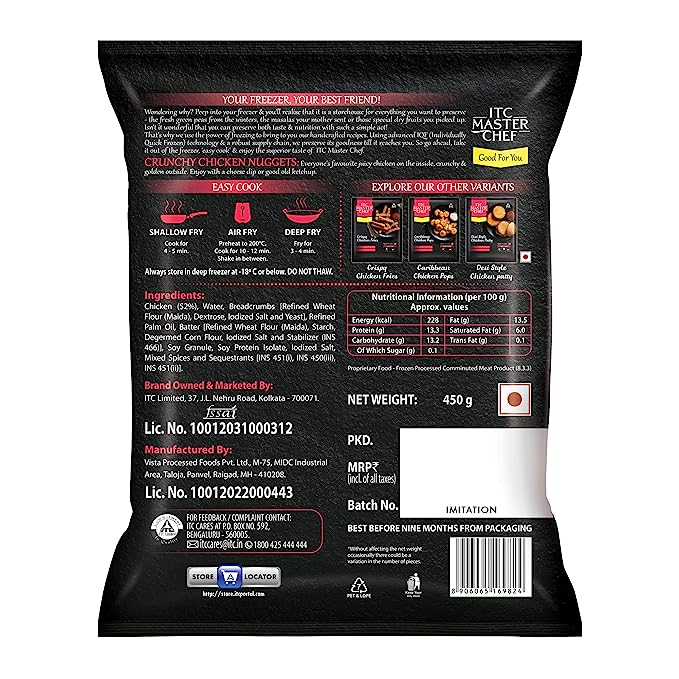non_veg: (490, 381, 531, 430)
